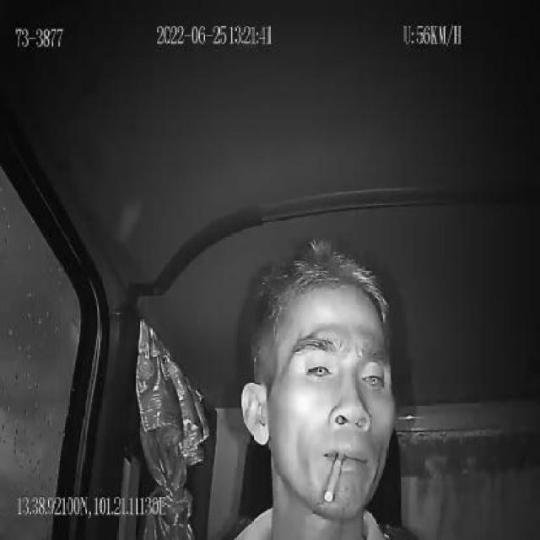smoking: (323, 452, 344, 505)
